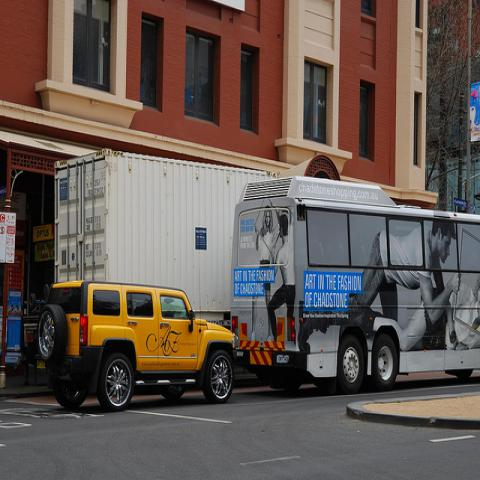bus: (230, 176, 480, 396)
car: (35, 280, 236, 408)
truck: (54, 147, 278, 336), (35, 274, 238, 410)
